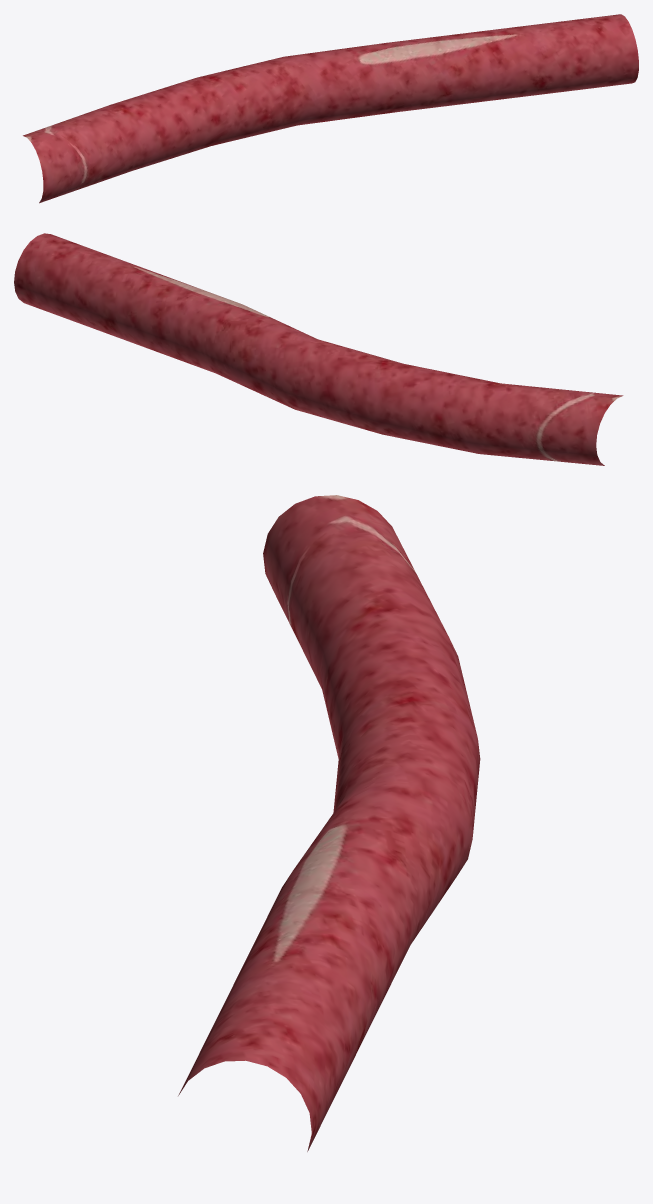
Rendered from Renal_Vein1.glb.
3 views of the same model, one above another, from view 1: azimuth 30°, elevation 25°; view 2: azimuth 150°, elevation 25°; view 3: azimuth 270°, elevation 25° (orthographic). The views are drawn at different scales.
Visible parts, largest first — view 1: renal_vein; view 2: renal_vein; view 3: renal_vein.
Boxes of the visible parts, x1=… form: renal_vein: x1=23, y1=14, x2=638, y2=203; renal_vein: x1=14, y1=233, x2=623, y2=465; renal_vein: x1=178, y1=495, x2=480, y2=1151.
Size of the model in its own units: 31.14 by 3.51 by 7.12.
1 material, 1 textured.
